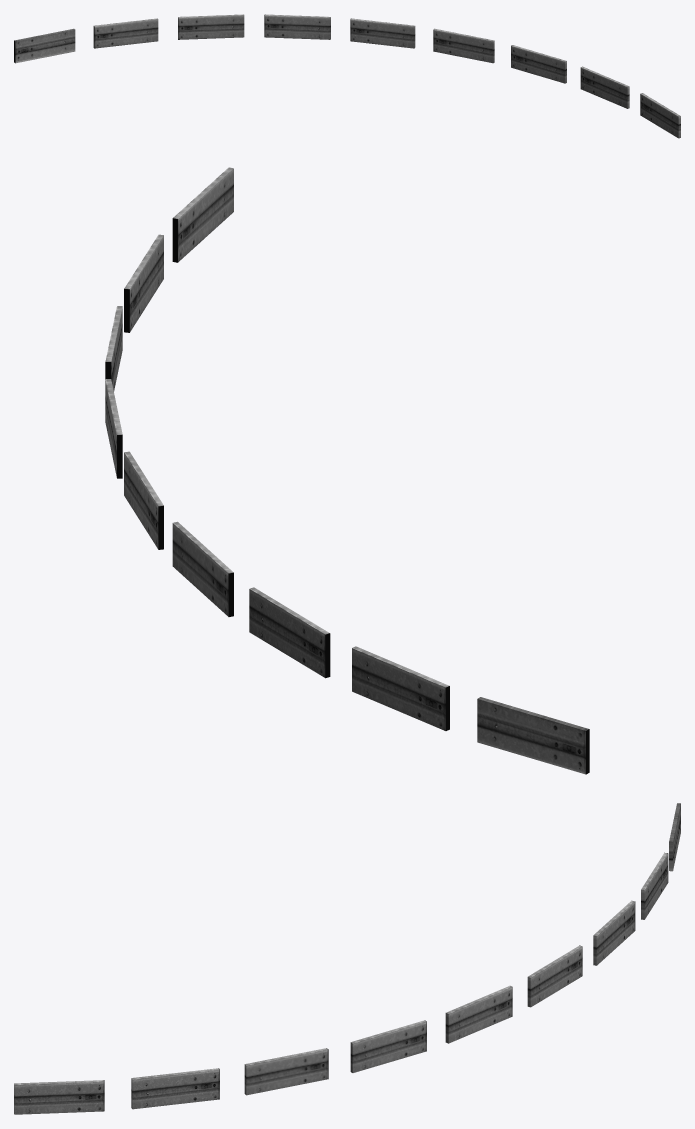
Rendered from 90road_guard.FBX.
The picture shows the model from 3 angles, top to bottom: view 1: azimuth 30°, elevation 25°; view 2: azimuth 150°, elevation 25°; view 3: azimuth 270°, elevation 25°; orthographic projection. The views are drawn at different scales.
Visible parts, largest first — view 1: Object004; view 2: Object004; view 3: Object004.
Part boxes in pixels (left/top/right/bottom): Object004: left=14, top=14, right=680, bottom=138; Object004: left=105, top=167, right=589, bottom=774; Object004: left=14, top=803, right=680, bottom=1114.
Size of the model in its own units: 1956 by 96.2 by 1956.
